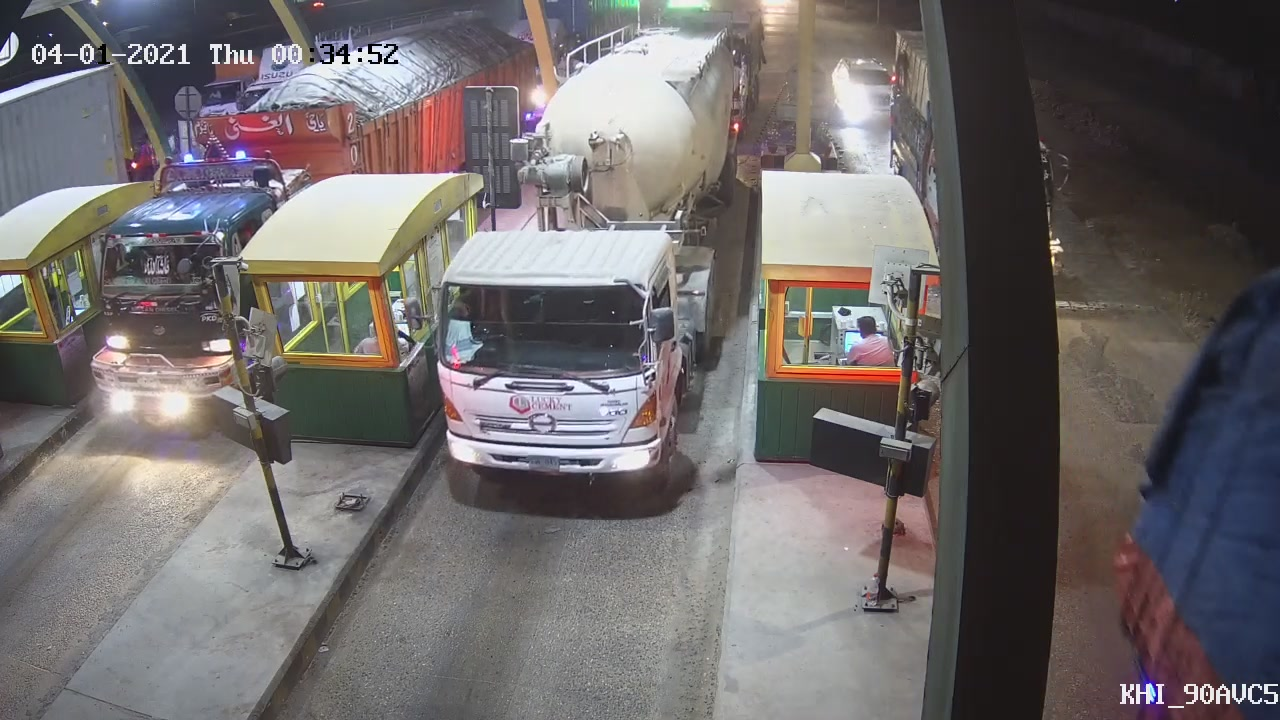F6: (407, 12, 762, 496)
